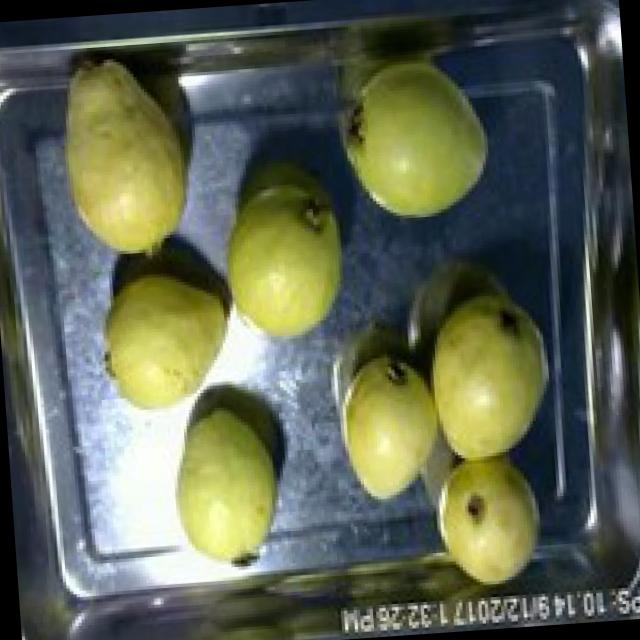Fruit: (38, 41, 210, 274), (200, 152, 364, 360), (327, 42, 502, 235), (407, 274, 564, 473), (318, 332, 481, 521), (150, 389, 306, 582), (81, 252, 246, 428), (419, 443, 554, 601)
